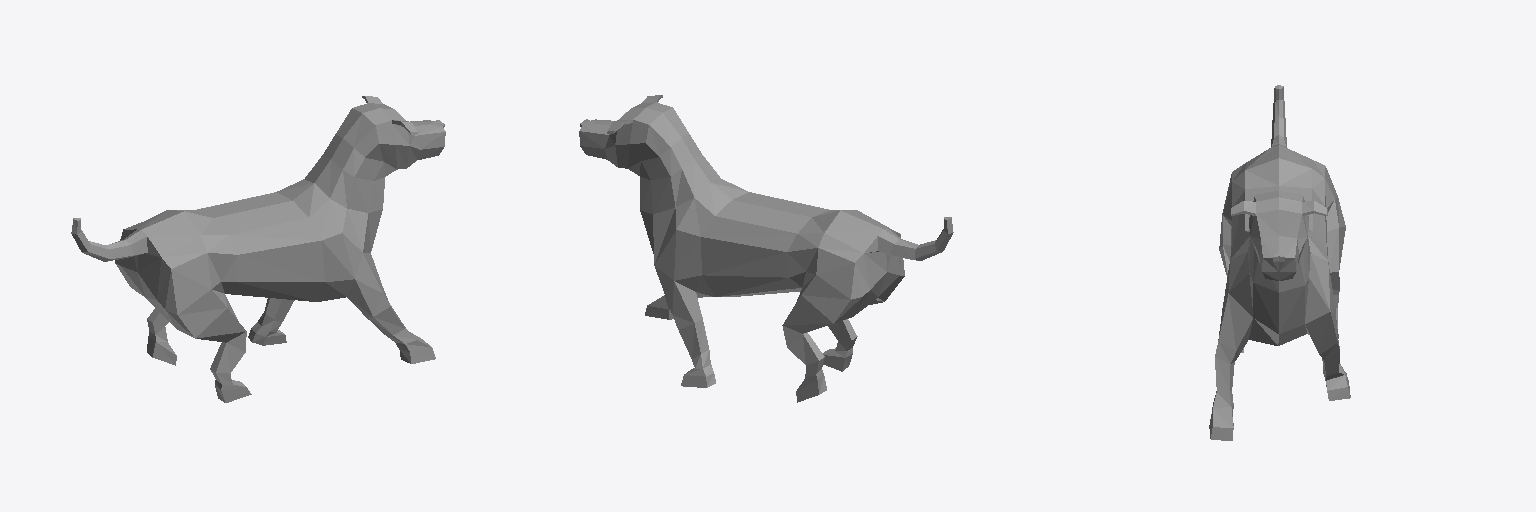
File: Dog.obj
3 renders of one model, left to right at view 1: azimuth 30°, elevation 25°; view 2: azimuth 150°, elevation 25°; view 3: azimuth 270°, elevation 25°, orthographic.
Parts seen in each view (by area): view 1: Dog_Cylinder; view 2: Dog_Cylinder; view 3: Dog_Cylinder.
Boxes of the visible parts, box(x1,y1,x2,y2) form: Dog_Cylinder: box(71, 96, 445, 402); Dog_Cylinder: box(579, 95, 953, 402); Dog_Cylinder: box(1209, 85, 1350, 440).
Bounding box in the file's own units: 7.1 × 4.33 × 2.35.